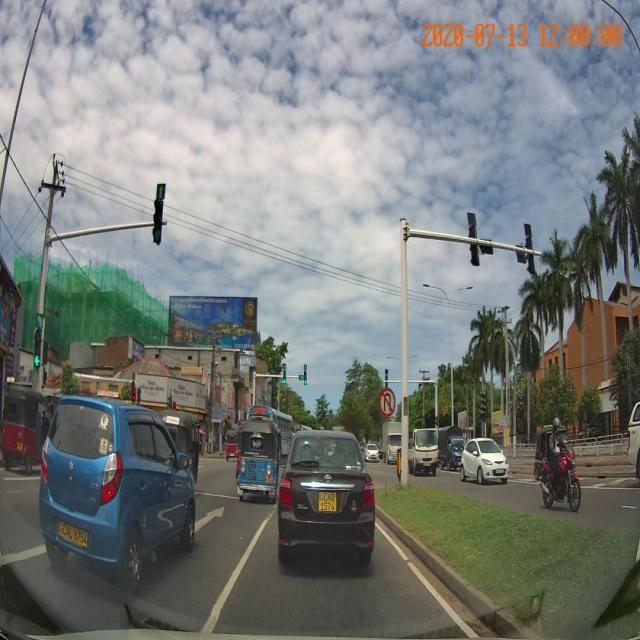Liniya 1: (375, 519, 481, 639), (199, 506, 277, 634)
Strelka vpered: (195, 506, 225, 532)
